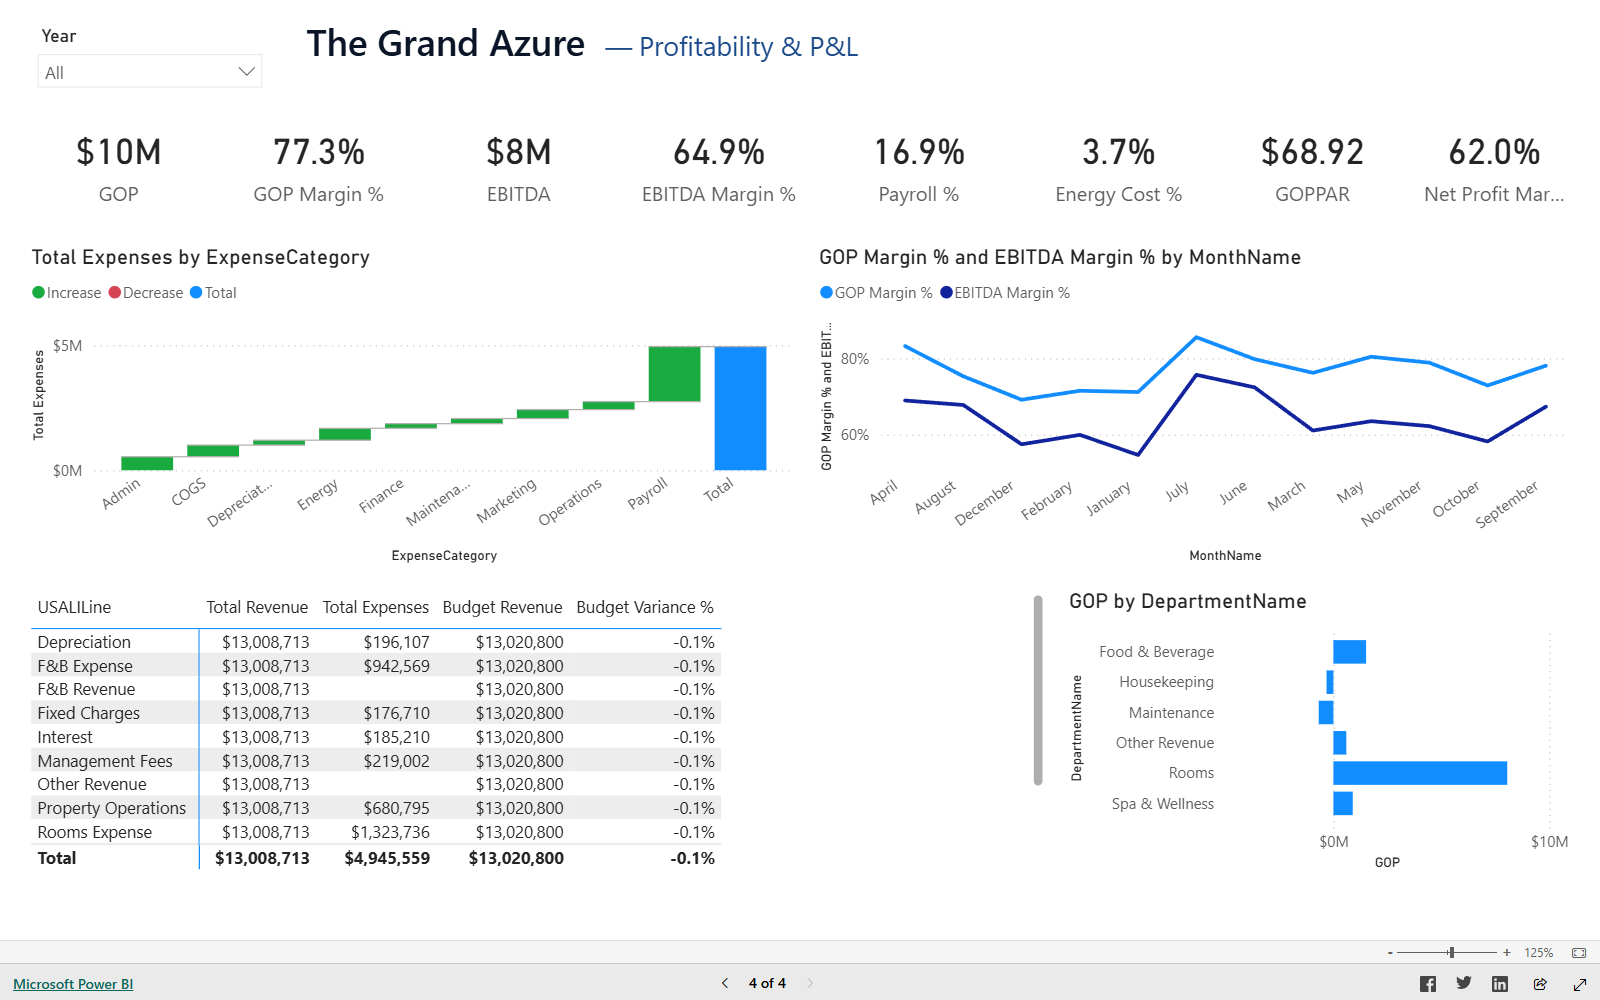

What the dashboard file says about the page in this screenshot:
{"tool":"powerbi","page":{"name":"Profitability & P&L","canvas":[1280,720],"ordinal":3},"visuals":[{"type":"card","fields":{"Values":["_Measures.GOP"]},"box":[20,80,150,100],"z":0},{"type":"card","fields":{"Values":["_Measures.GOP Margin %"]},"box":[180,80,150,100],"z":1},{"type":"card","fields":{"Values":["_Measures.EBITDA"]},"box":[340,80,150,100],"z":2},{"type":"card","fields":{"Values":["_Measures.EBITDA Margin %"]},"box":[500,80,150,100],"z":3},{"type":"card","fields":{"Values":["_Measures.Payroll %"]},"box":[660,80,150,100],"z":4},{"type":"card","fields":{"Values":["_Measures.Energy Cost %"]},"box":[820,80,150,100],"z":5},{"type":"card","fields":{"Values":["_Measures.GOPPAR"]},"box":[980,80,140,100],"z":6},{"type":"card","fields":{"Values":["_Measures.Net Profit Margin %"]},"box":[1130,80,130,100],"z":7},{"type":"waterfallChart","fields":{"Category":["Dim_Account.ExpenseCategory"],"Y":["_Measures.Total Expenses"]},"box":[20,195,620,260],"z":8},{"type":"lineChart","fields":{"Category":["Dim_Date.MonthName"],"Y":["_Measures.GOP Margin %","_Measures.EBITDA Margin %"]},"box":[650,195,610,260],"z":9},{"type":"pivotTable","fields":{"Rows":["Dim_Account.USALILine"],"Values":["_Measures.Total Revenue","_Measures.Total Expenses","_Measures.Budget Revenue","_Measures.Budget Variance %"]},"box":[20,470,820,230],"z":10},{"type":"barChart","fields":{"Category":["Dim_Department.DepartmentName"],"Y":["_Measures.GOP"]},"box":[850,470,410,230],"z":11},{"type":"slicer","fields":{"Values":["Dim_Date.Year"]},"box":[19.9,14.8,199.9,58],"z":12}]}

Visuals, with their boxes on the page's 1280x720 design canvas (x1, y1, x2, y2). These are canvas units, not pixel positions in the 1600x1000 screenshot, which may show the page scaled, cropped or inside an application window:
card - _Measures.GOP: left=20, top=80, right=170, bottom=180
card - _Measures.GOP Margin %: left=180, top=80, right=330, bottom=180
card - _Measures.EBITDA: left=340, top=80, right=490, bottom=180
card - _Measures.EBITDA Margin %: left=500, top=80, right=650, bottom=180
card - _Measures.Payroll %: left=660, top=80, right=810, bottom=180
card - _Measures.Energy Cost %: left=820, top=80, right=970, bottom=180
card - _Measures.GOPPAR: left=980, top=80, right=1120, bottom=180
card - _Measures.Net Profit Margin %: left=1130, top=80, right=1260, bottom=180
waterfallChart - Dim_Account.ExpenseCategory x _Measures.Total Expenses: left=20, top=195, right=640, bottom=455
lineChart - Dim_Date.MonthName x _Measures.GOP Margin %: left=650, top=195, right=1260, bottom=455
pivotTable - Dim_Account.USALILine x _Measures.Total Revenue: left=20, top=470, right=840, bottom=700
barChart - Dim_Department.DepartmentName x _Measures.GOP: left=850, top=470, right=1260, bottom=700
slicer - Dim_Date.Year: left=20, top=15, right=220, bottom=73
